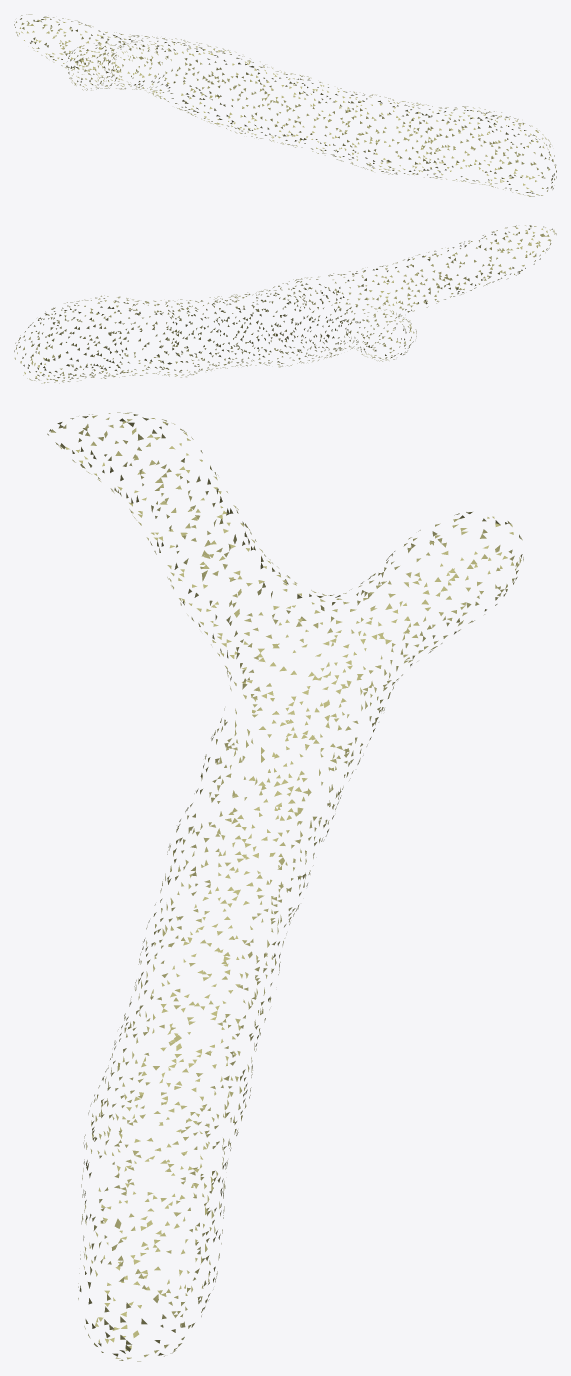
File: morph_009.glb
3 renders of one model, top to bottom at view 1: azimuth 30°, elevation 25°; view 2: azimuth 150°, elevation 25°; view 3: azimuth 270°, elevation 25°, orthographic. The views are drawn at different scales.
Bounding box in the file's own units: 121 × 59.61 × 51.17.
